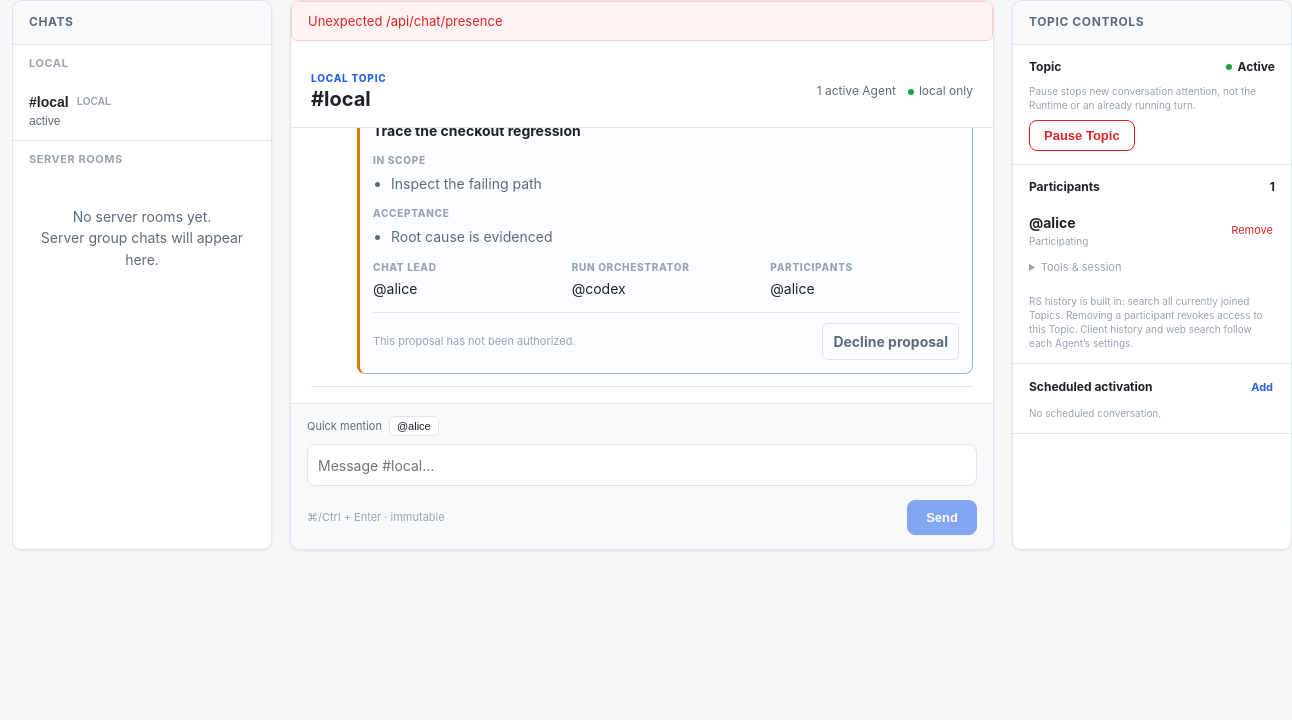
Test case: ChatsView › prepares a scoped clarification reply without discarding a draft or sending automatically
The width and height of the screenshot is (1292, 720).
(page scrolled)
Type "Keep this draft." into the text box with placeholder "Message #local…".
click(642, 465); type("Keep this draft.")  # box [307,444,977,486]
(page scrolled)
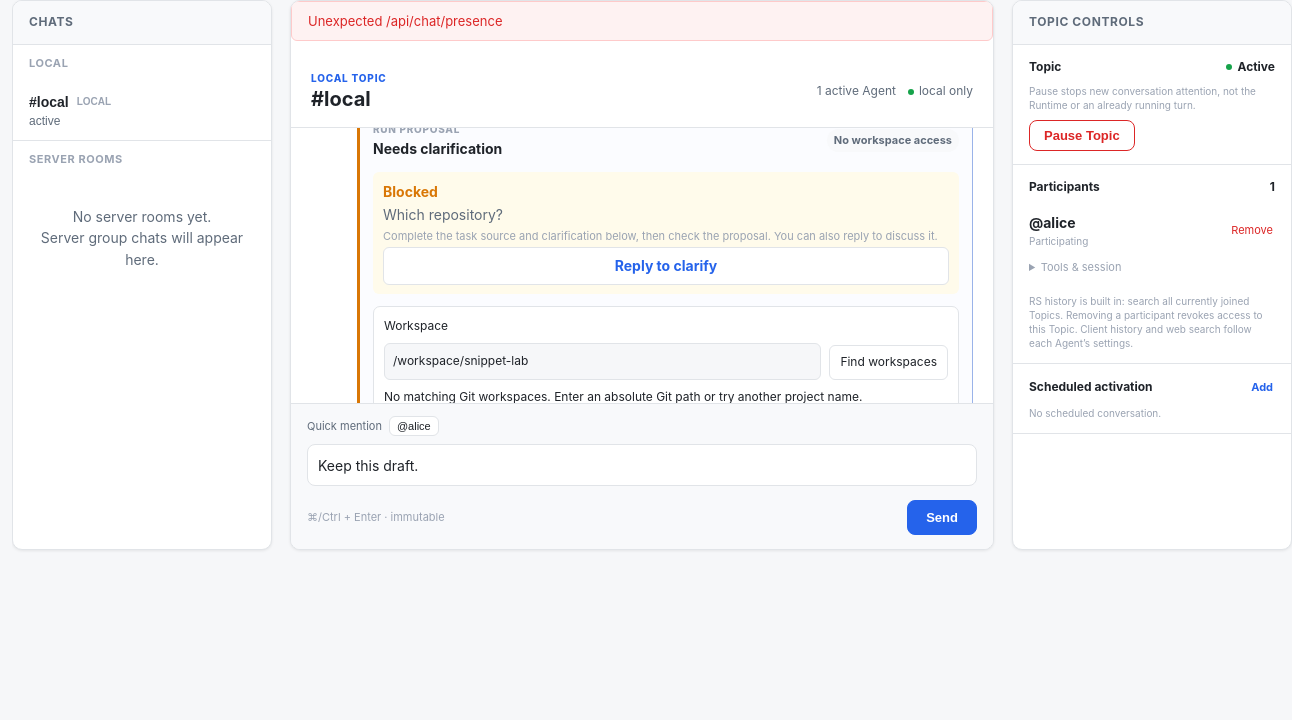
Click the button "Reply to clarify".
click(666, 266)  # box [383,247,949,285]
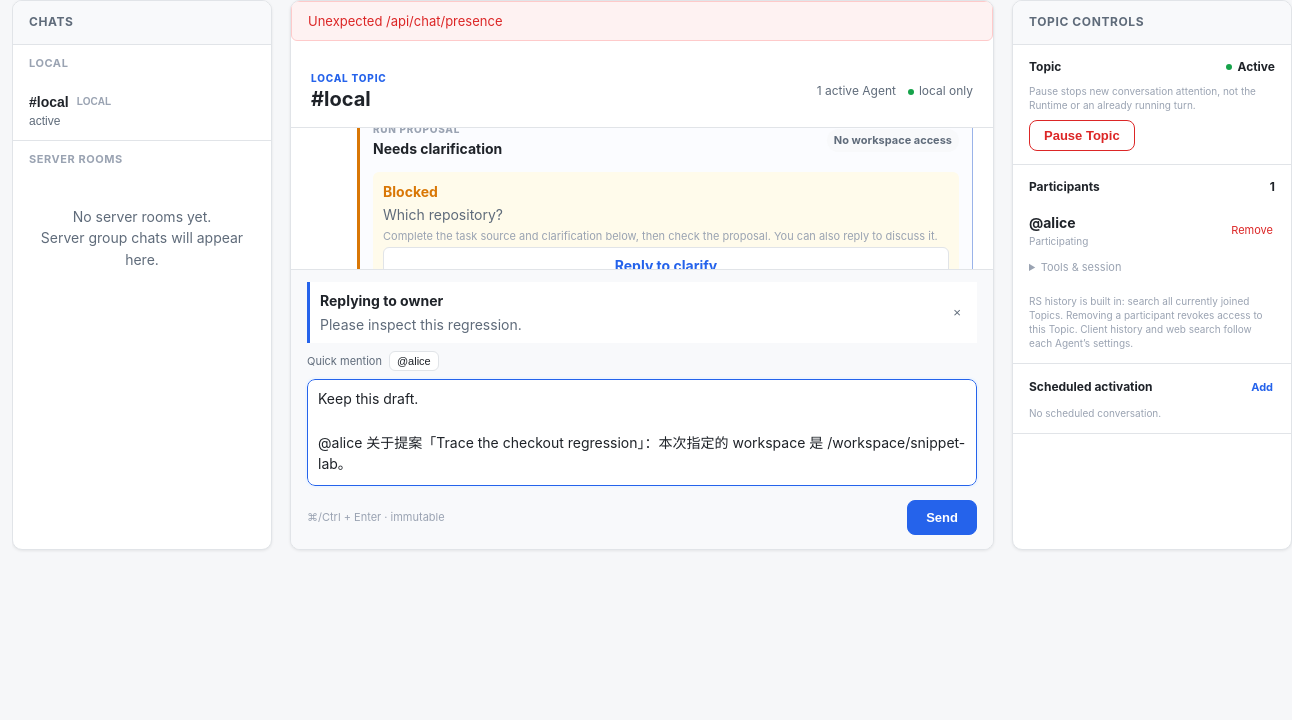
Now the element with class "reply-preview" is shown, box [307,282,977,343]
